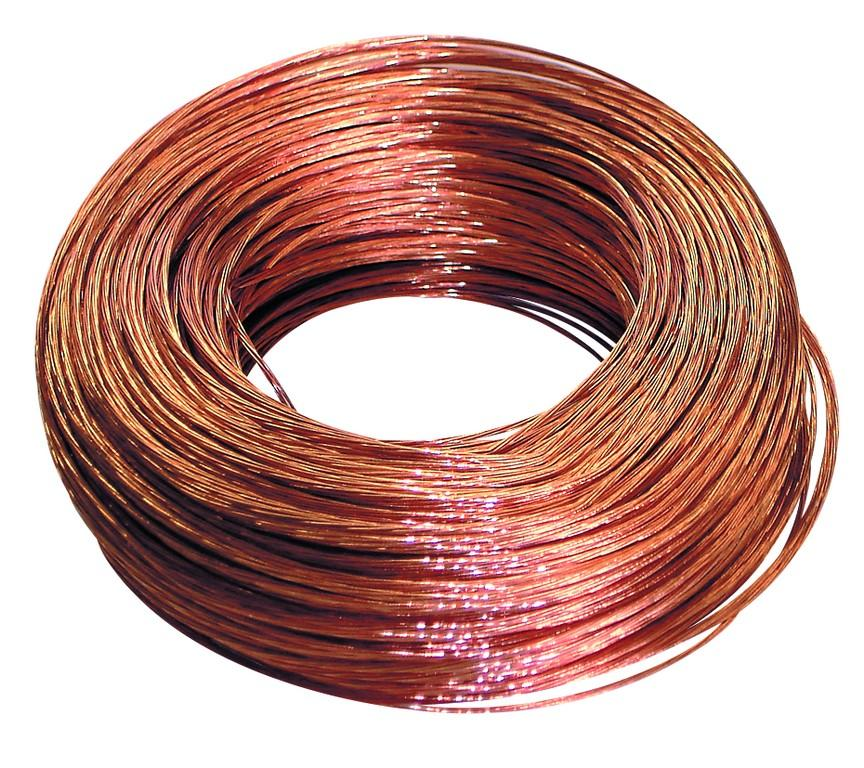Nonrec_Tangler: (23, 23, 805, 672)
